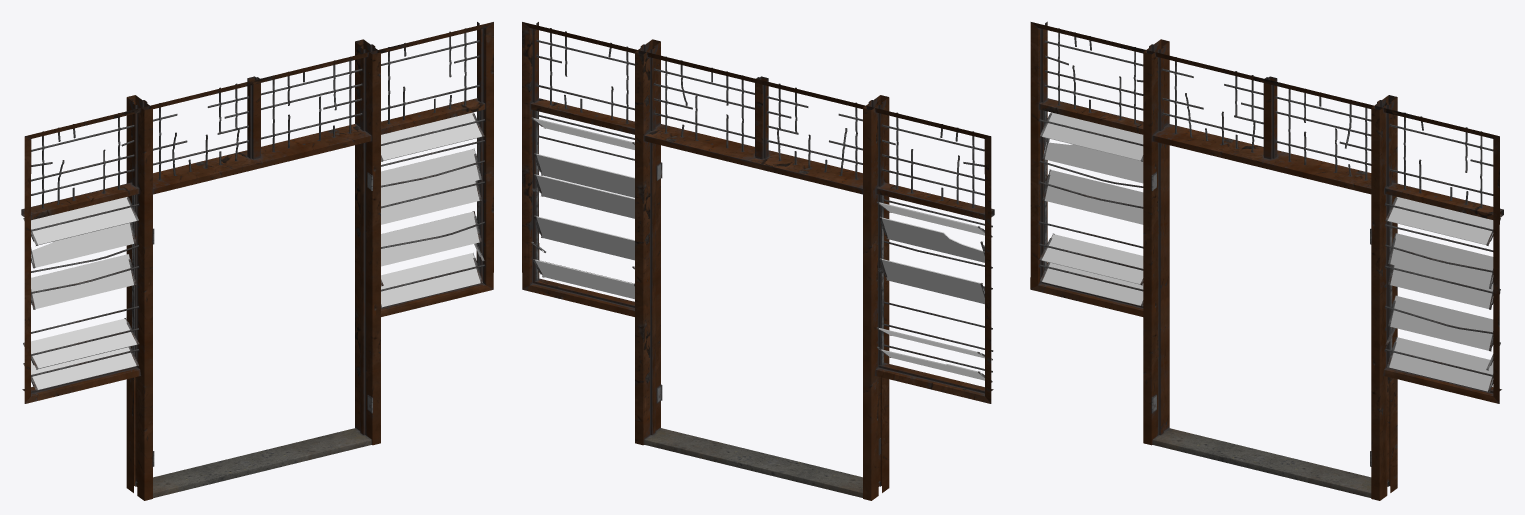
Rendered from 333_doorframe_2.FBX.
3 renders of one model, left to right at view 1: azimuth 30°, elevation 25°; view 2: azimuth 150°, elevation 25°; view 3: azimuth 330°, elevation 25°, orthographic.
Visible parts, largest first — view 1: 333_doorframe_2; view 2: 333_doorframe_2; view 3: 333_doorframe_2.
Part boxes in pixels (x1,y1,x2,y2): 333_doorframe_2: (21,22,493,500); 333_doorframe_2: (522,22,994,500); 333_doorframe_2: (1030,21,1503,500).
Bounding box in the file's own units: 351 × 280 × 23.46.
